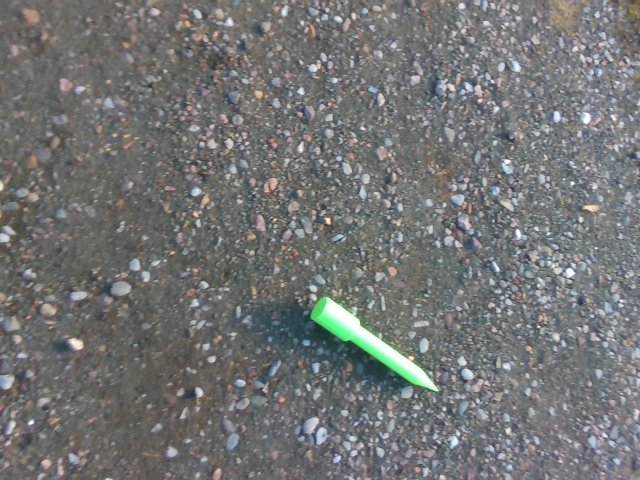Probe: (305, 290, 446, 396)
